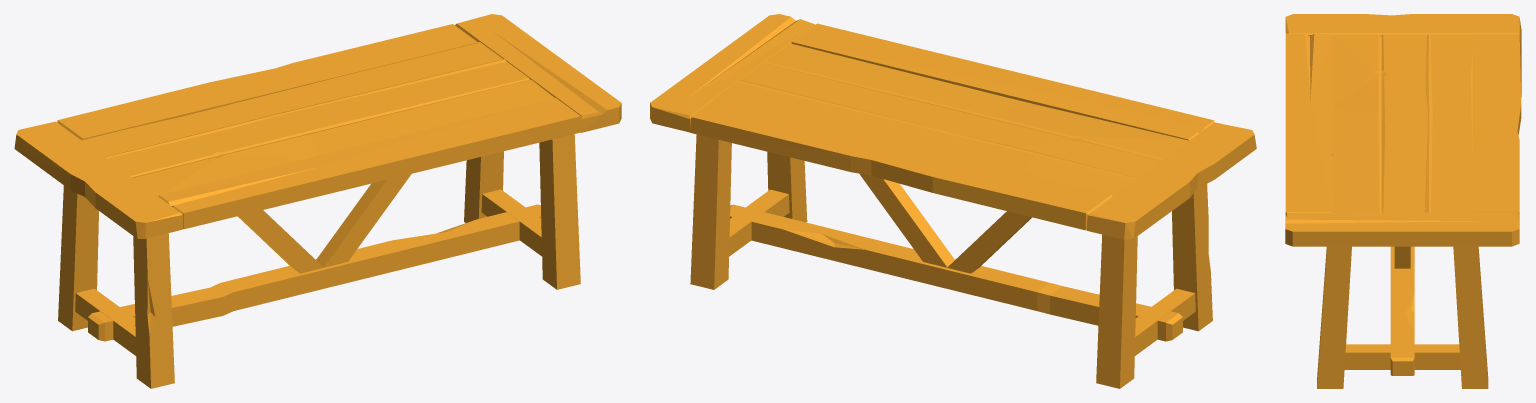
Rendered from SM_Table_Dinner_Farm_A.fbx.
The picture shows the model from 3 angles, left to right: view 1: azimuth 30°, elevation 25°; view 2: azimuth 150°, elevation 25°; view 3: azimuth 270°, elevation 25°; orthographic projection. The views are drawn at different scales.
Parts seen in each view (by area): view 1: table-dinner-farm-a; view 2: table-dinner-farm-a; view 3: table-dinner-farm-a.
Part boxes in pixels (<box>): table-dinner-farm-a: <box>14,14,621,388</box>; table-dinner-farm-a: <box>650,14,1256,388</box>; table-dinner-farm-a: <box>1285,14,1521,388</box>.
Bounding box in the file's own units: 2.21 × 0.8001 × 1.01.
